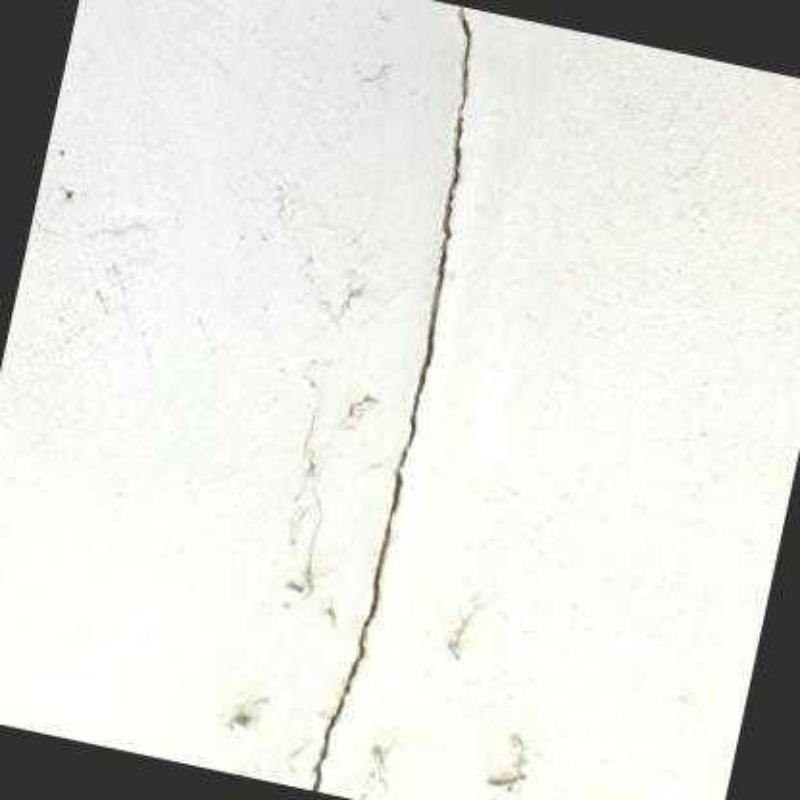pothole: (308, 7, 473, 795)
